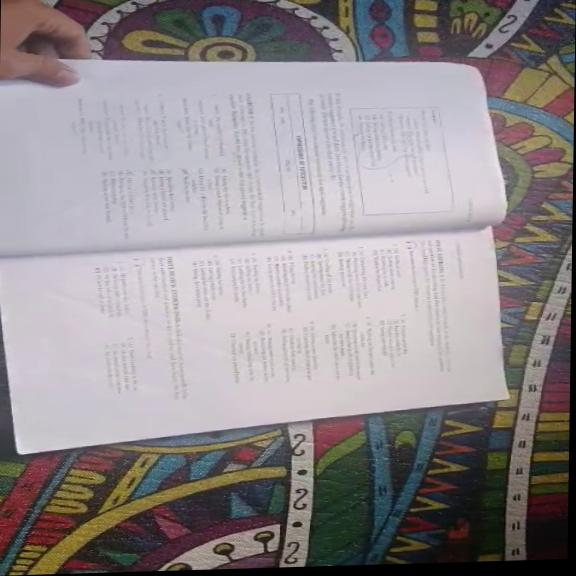Kertas: (0, 222, 523, 443), (0, 45, 517, 255)
